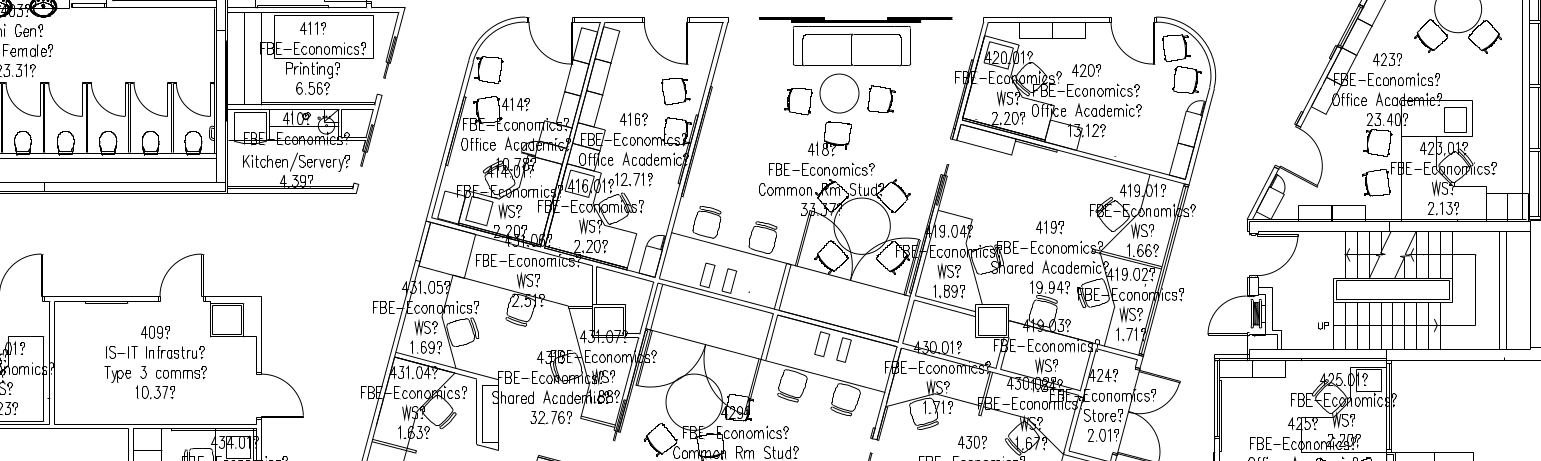door: (634, 327, 765, 421), (1115, 367, 1190, 461), (1273, 116, 1331, 191), (639, 16, 694, 69), (521, 18, 576, 71), (156, 246, 211, 299), (1250, 228, 1304, 281), (1192, 292, 1246, 345), (1106, 17, 1160, 70), (257, 371, 311, 424), (1, 248, 54, 301), (175, 79, 212, 131), (131, 79, 168, 131), (90, 74, 127, 126), (44, 79, 81, 131), (5, 78, 42, 130)
